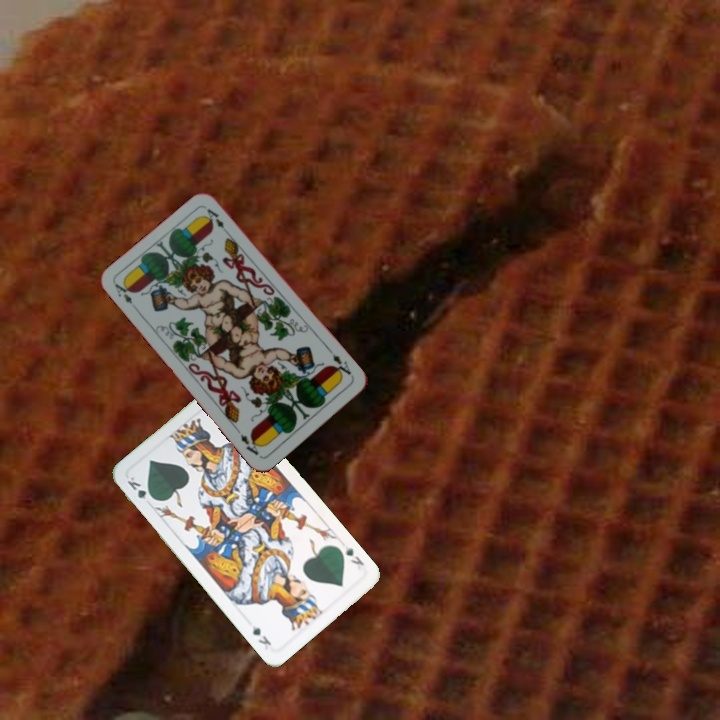EA: (328, 350, 353, 381), (111, 278, 136, 307)
GK: (123, 473, 157, 503), (341, 542, 367, 572)
